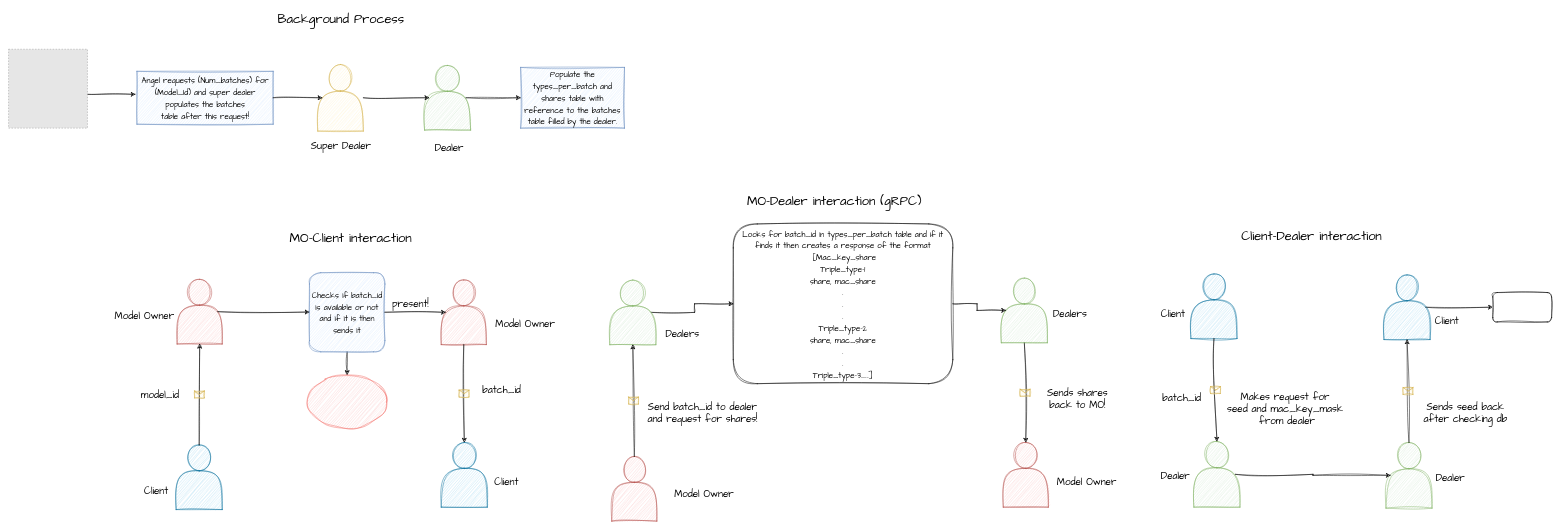
This 1560x530 diagram has some shape labels left out. Grey dashed boxes stand in for pictures. Here are the shapes that lost their labels. From the top down, the box of each, then its label:
(1492, 292, 1552, 322): 2PC Shares
(307, 374, 387, 428): Send "Not Possible" Response to client
